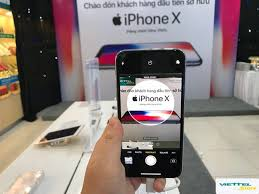iphone: (114, 46, 187, 181)
iphone10: (113, 46, 186, 181)
